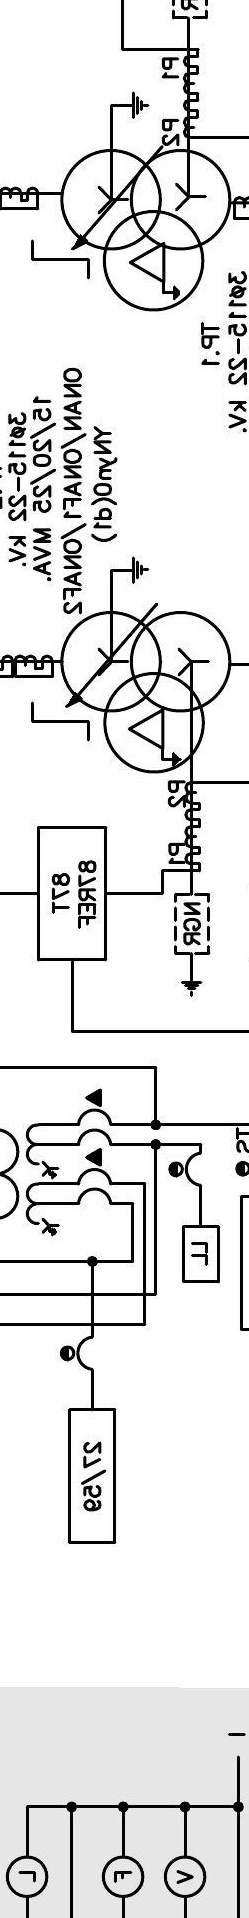11522_tx_ynyn0d1: (60, 148, 233, 313), (60, 609, 233, 774)
LL: (181, 1224, 221, 1284)
NGR_future: (173, 892, 211, 998)
